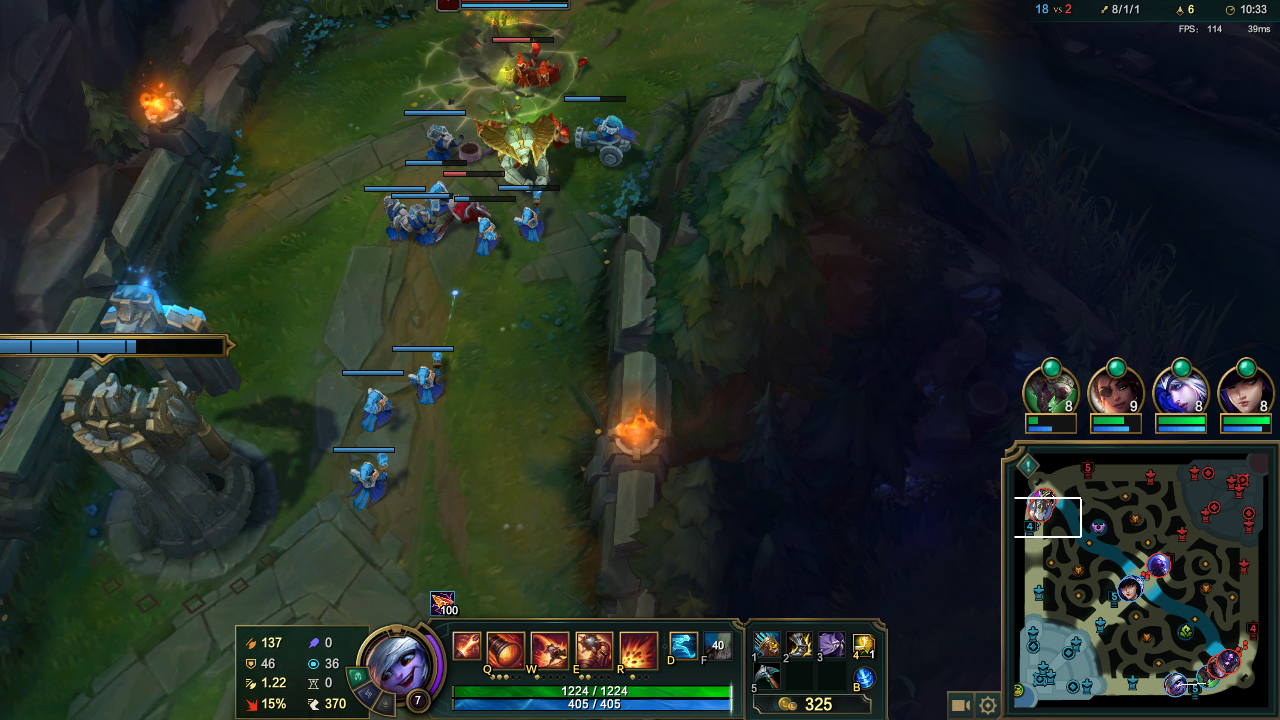WFXB: (567, 111, 644, 167), (403, 350, 465, 404), (347, 455, 407, 508), (503, 197, 552, 248), (351, 381, 403, 429), (395, 196, 439, 251), (377, 192, 416, 246), (426, 124, 470, 168), (467, 210, 504, 256), (429, 182, 458, 217)
